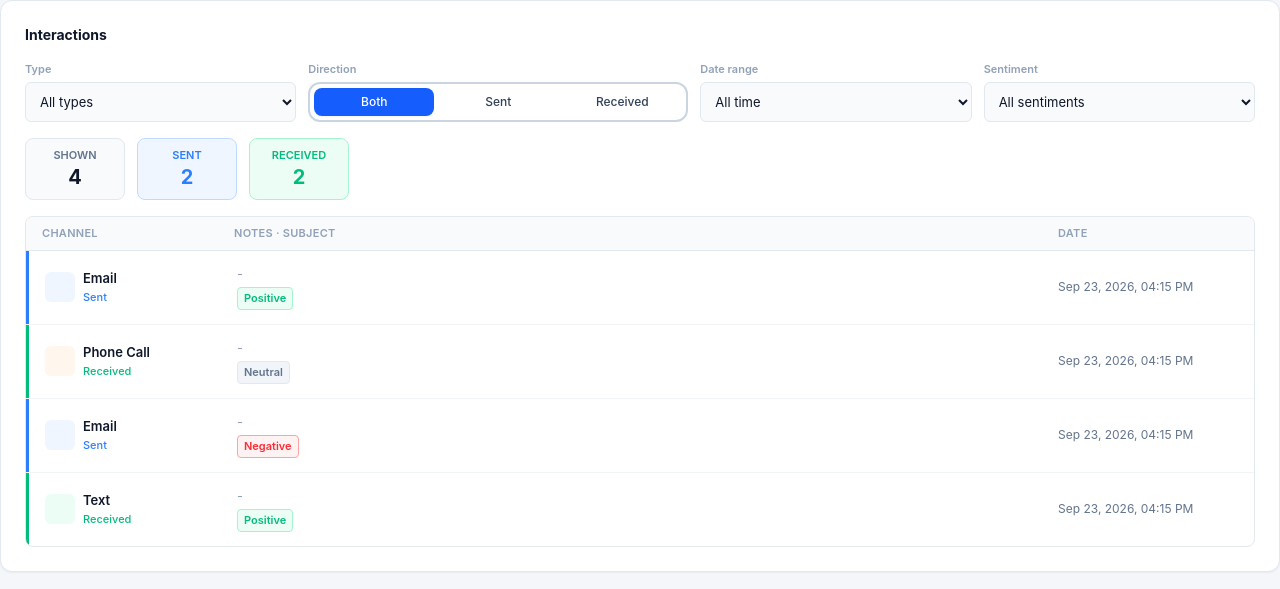
Test: CoachInteractionsTable › narrows rows via the Type filter
Select "Text" in the dropdown below "Type" at (161, 102), box [25,82,296,122]
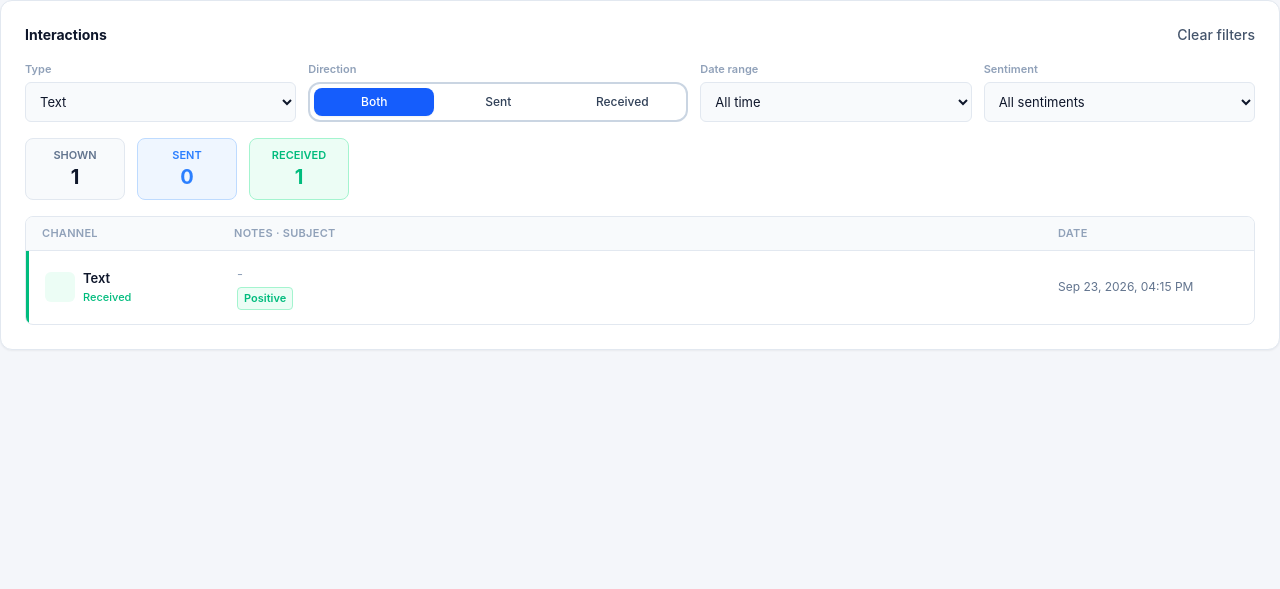
Result: the number of list items is 1 at [26,250,1254,324]
